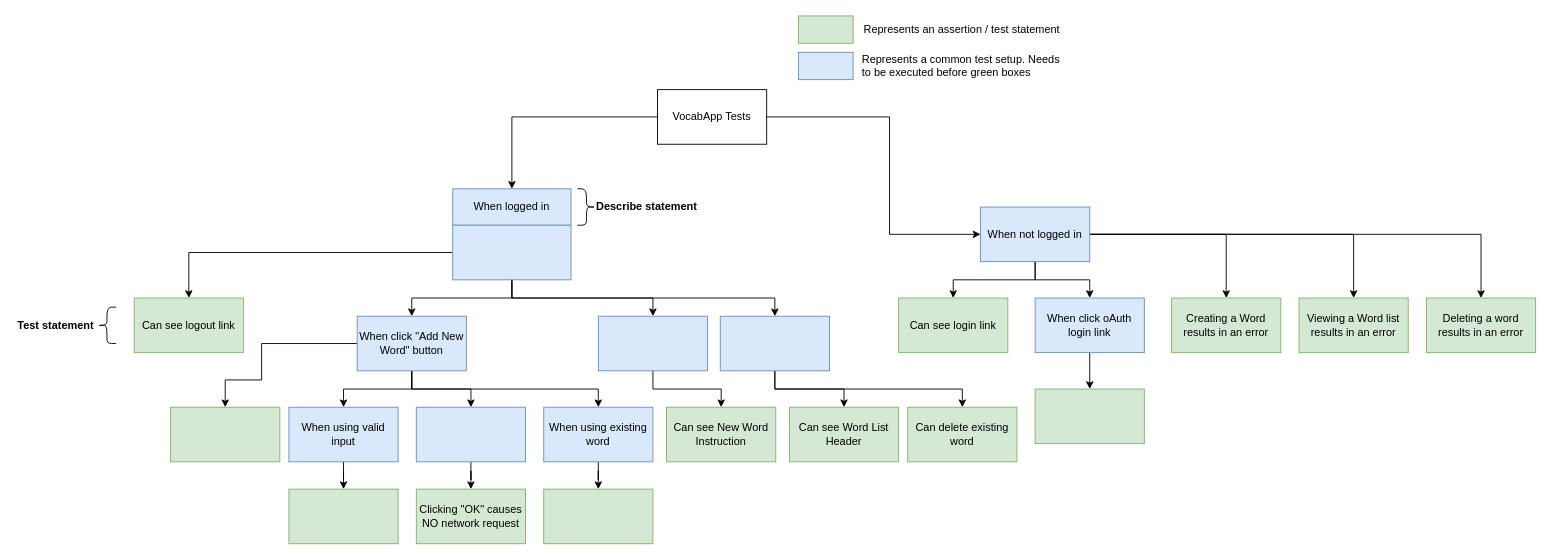
This 1552x560 diagram has some shape labels left out. The shapes that lost their labels are listed below. From the top down, each one's centre as x and y in pixels, then its label:
point 511,252: BeforeEach/AfterEach statements common to all tests beneath this
point 652,343: When word list is empty
point 774,343: When word list is NOT empty
point 225,434: Can see window.prompt message
point 470,434: When using empty input
point 1089,416: URL matches expected oAuth provider url
point 343,516: Clicking "OK" adds new word to the list
point 598,516: Issuing a POST request returns an error
